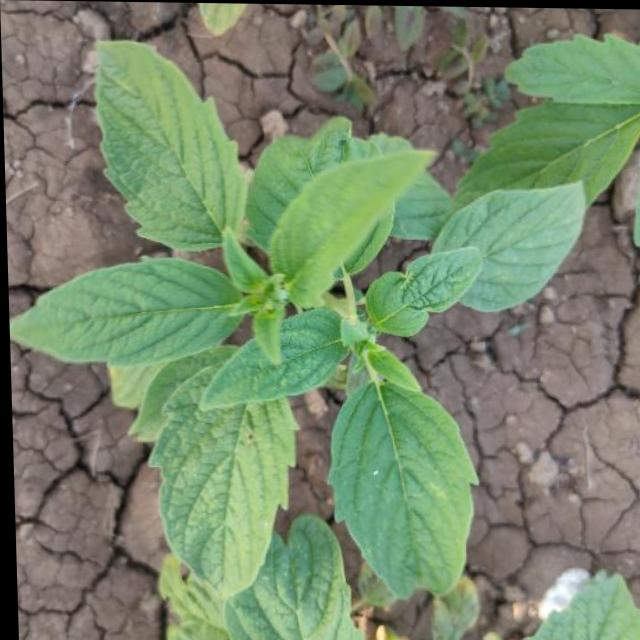crop: (2, 48, 614, 608)
